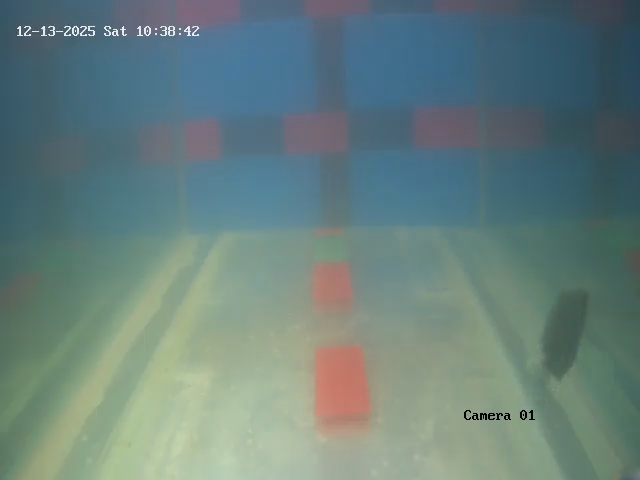fish: (537, 291, 590, 379)
